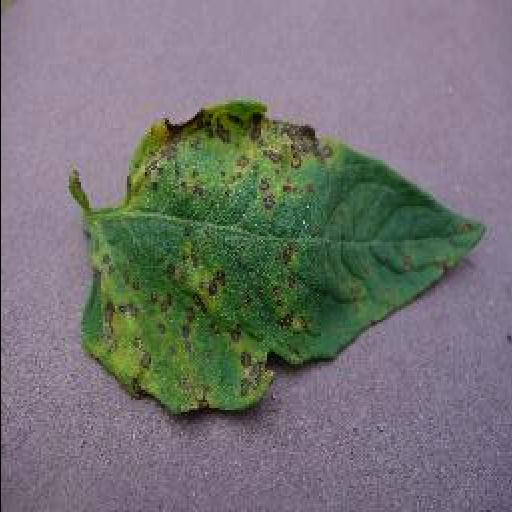disease_tomato: (78, 100, 488, 420)
